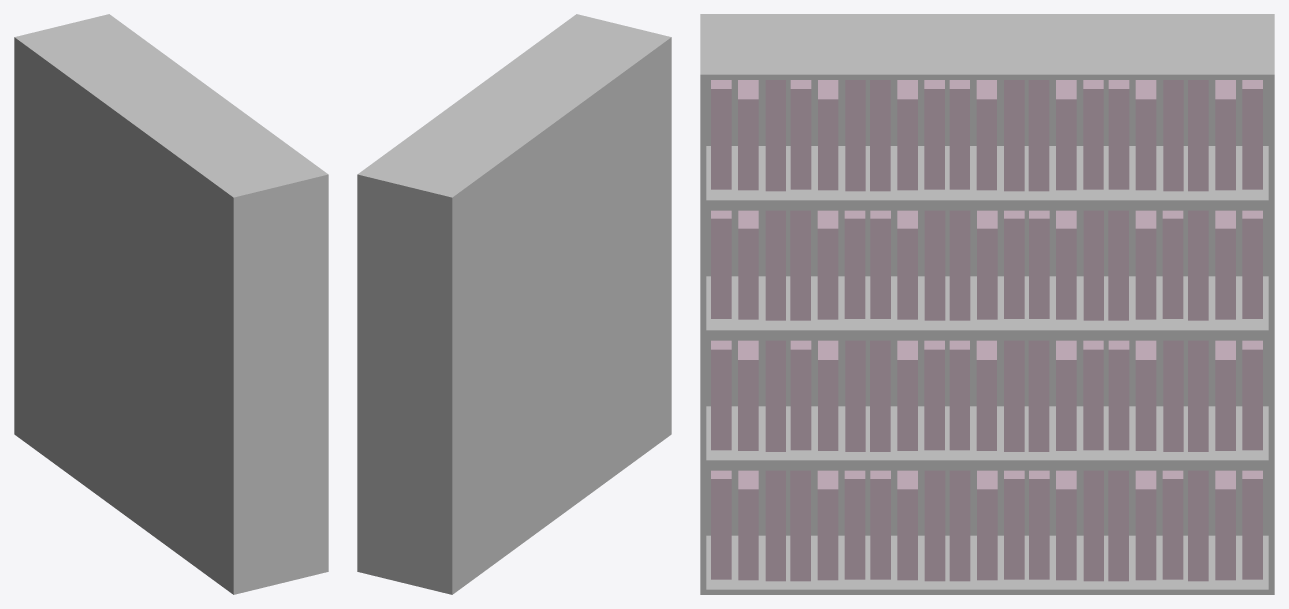
The model's file is shelf2Colored.fbx.
3 renders of one model, left to right at view 1: azimuth 30°, elevation 25°; view 2: azimuth 150°, elevation 25°; view 3: azimuth 270°, elevation 25°, orthographic. The views are drawn at different scales.
Parts seen in each view (by area): view 1: shelf; view 2: shelf; view 3: books, shelf.
Boxes of the visible parts, x1,y1,x2,y2 form: shelf: (14, 14, 328, 594); shelf: (357, 14, 671, 594); books: (711, 80, 1262, 581); shelf: (700, 14, 1274, 594).
Bounding box in the file's own units: 100 × 400 × 400.
